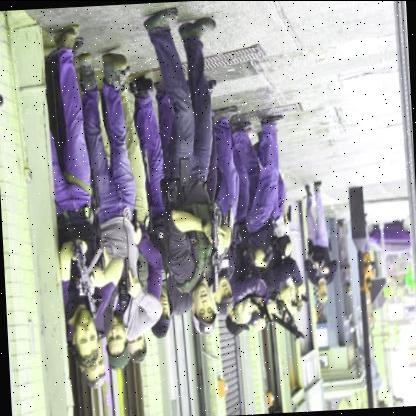rifle: (69, 241, 107, 313), (264, 306, 305, 344), (205, 201, 226, 258), (306, 254, 327, 282), (120, 259, 136, 294)
